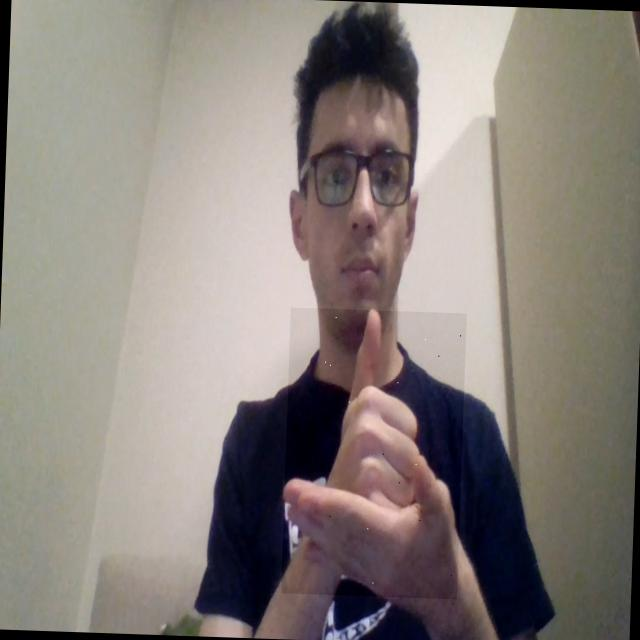help: (281, 308, 467, 600)
